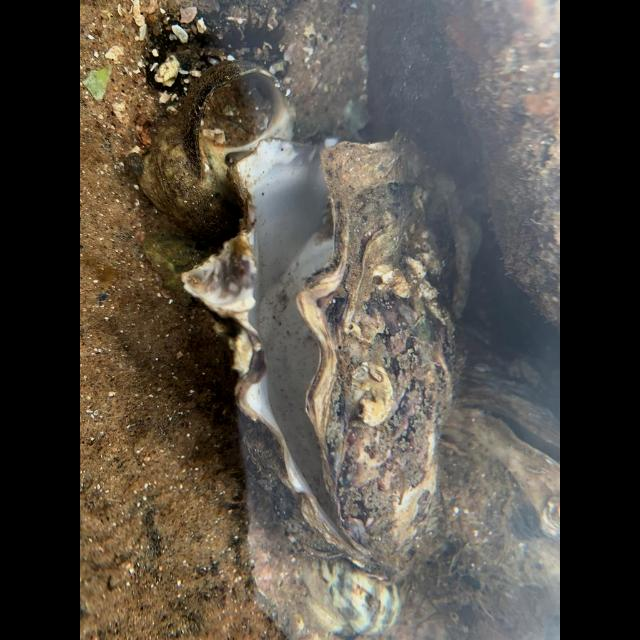Oyster-Open: (179, 122, 461, 578)
